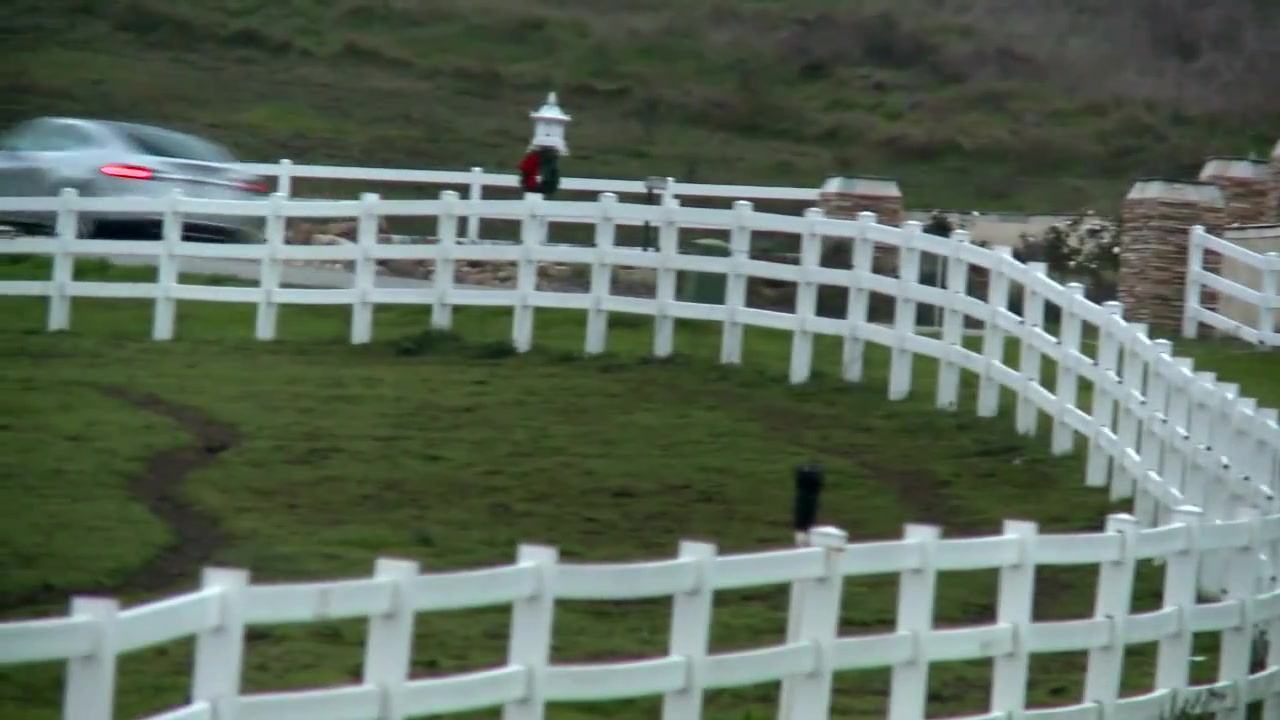car: (4, 108, 270, 237)
